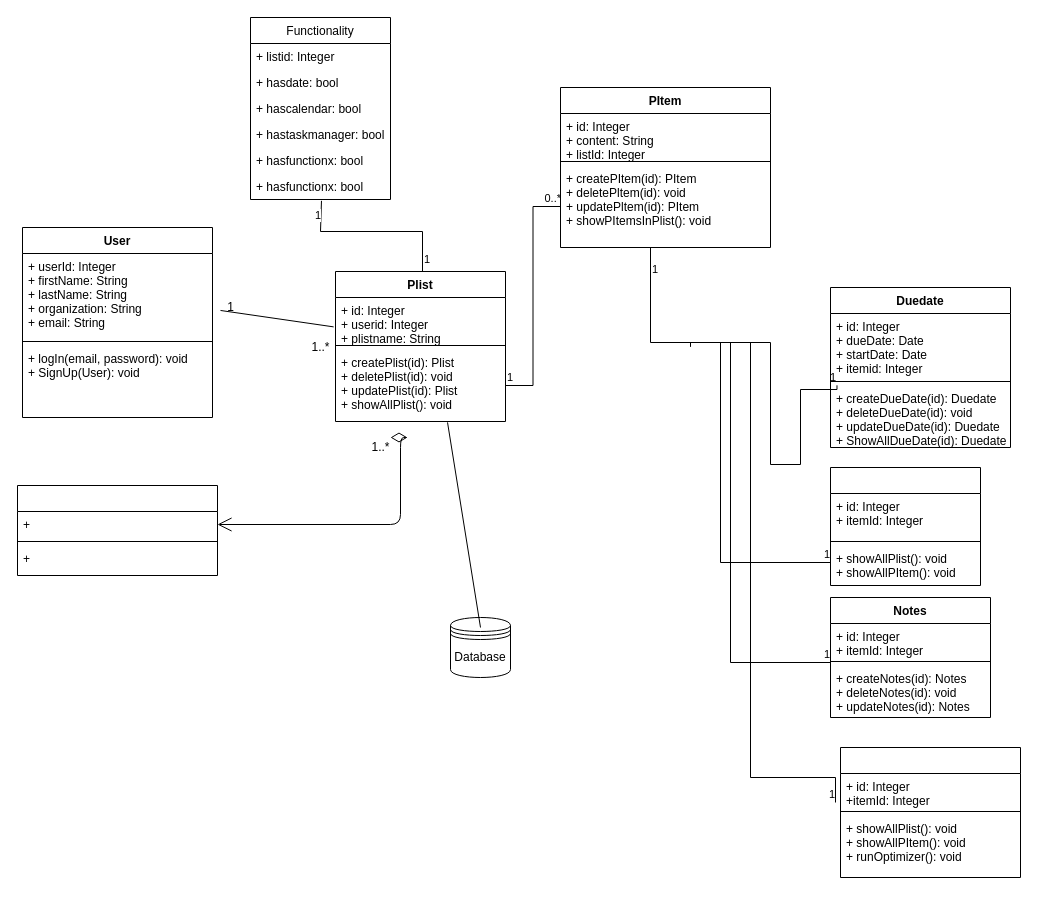
The diagram is 1038 pixels wide and 898 high, and some of its shapes have lost their labels. Here are the shapes that lost their labels. From the top down, the box of each, then its label:
(16, 484, 218, 576): Server
(830, 466, 980, 586): Calendar
(840, 746, 1020, 878): TaskManager
